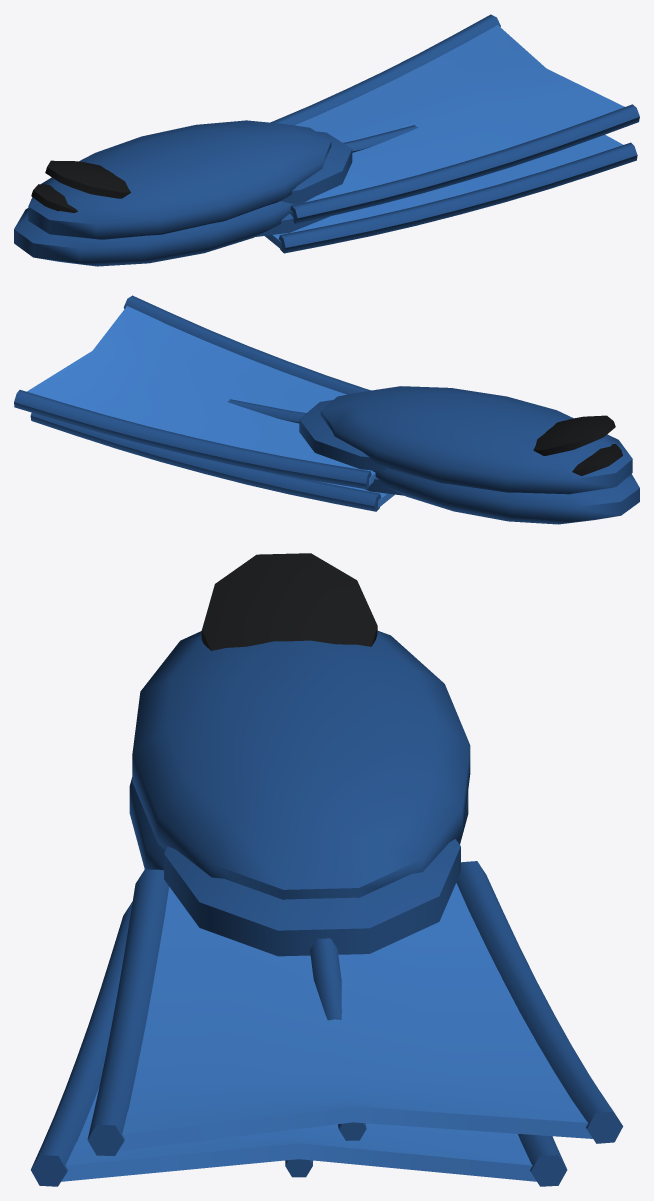
The model's file is fins_pair.glb.
3 renders of one model, top to bottom at view 1: azimuth 30°, elevation 25°; view 2: azimuth 150°, elevation 25°; view 3: azimuth 270°, elevation 25°, orthographic. The views are drawn at different scales.
Parts seen in each view (by area): view 1: Fins_1; view 2: Fins_1; view 3: Fins_1.
Boxes of the visible parts, bbox=[...] form: Fins_1: bbox=[14, 14, 639, 266]; Fins_1: bbox=[14, 295, 639, 524]; Fins_1: bbox=[31, 553, 623, 1186].
Bounding box in the file's own units: 0.5499 × 0.0931 × 0.256.
